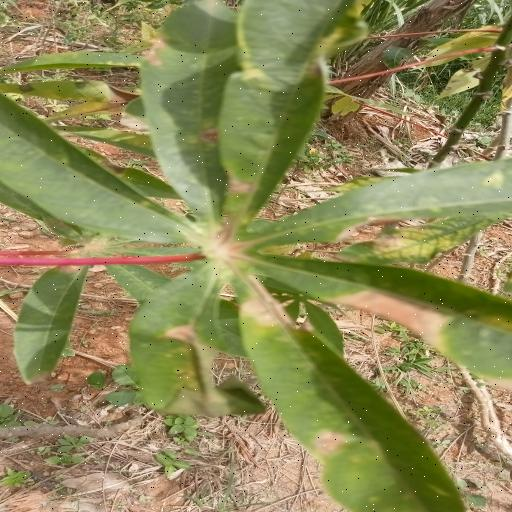Cassava_Root_Rot: (9, 4, 512, 501)
